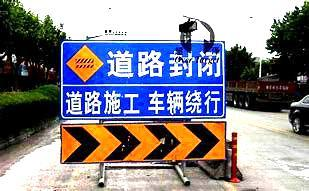sign: (60, 41, 226, 160)
